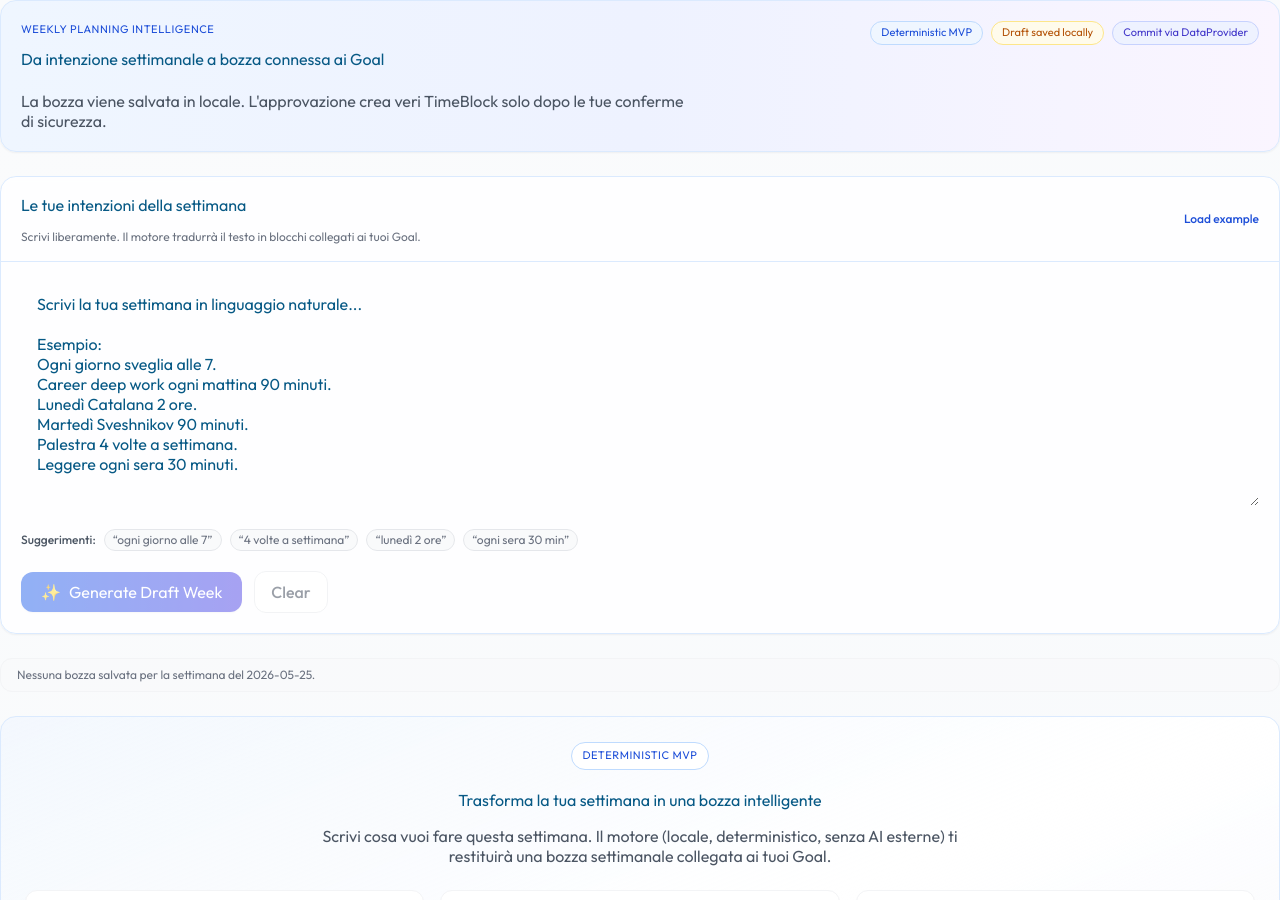
Test: WeeklyPlanningView — persistence › saves the draft to localStorage on Generate
Click the button "Load example": (1221, 219) [1184,211,1259,227]
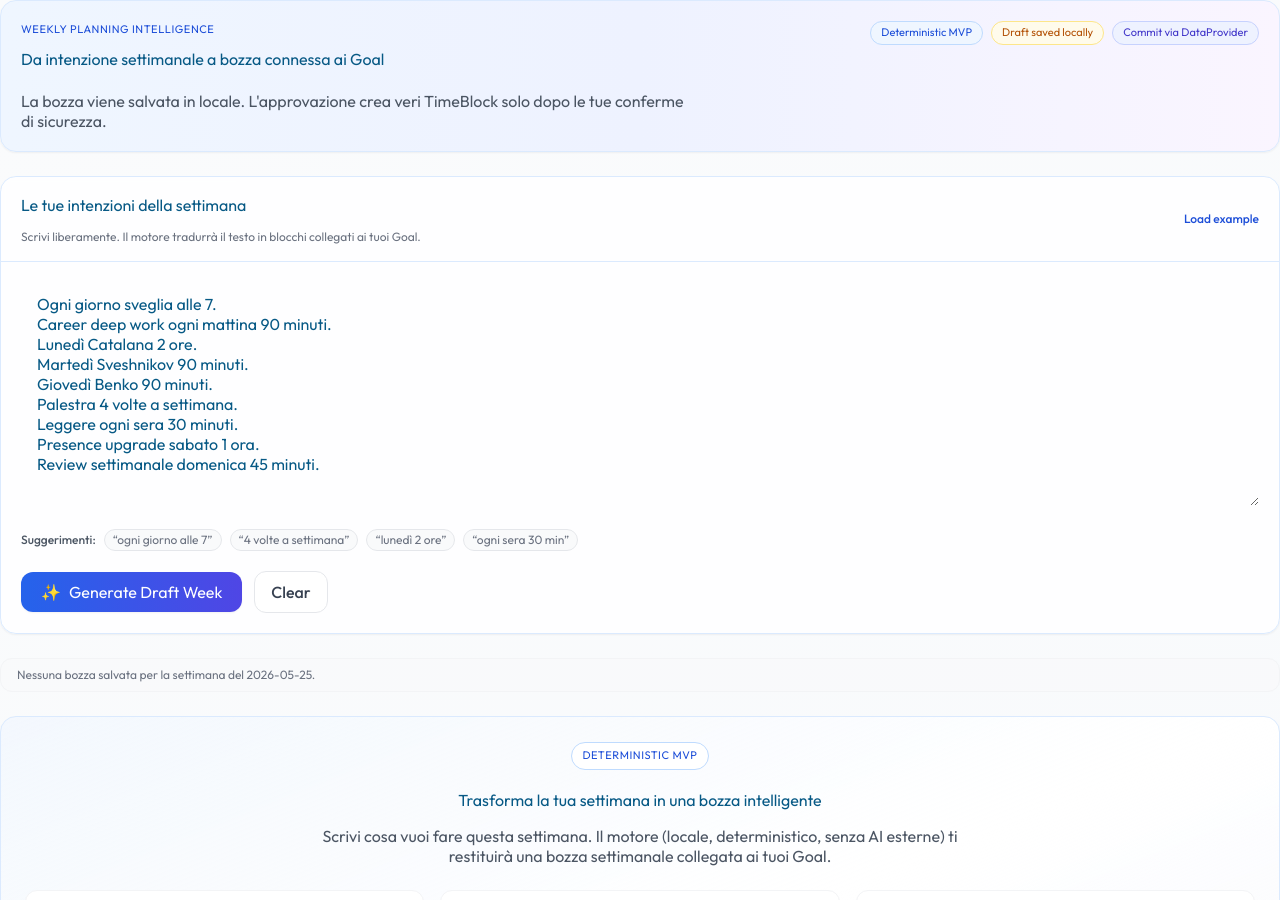
Click the button with test id "weekly-intent-generate": (132, 592) [21,572,242,612]
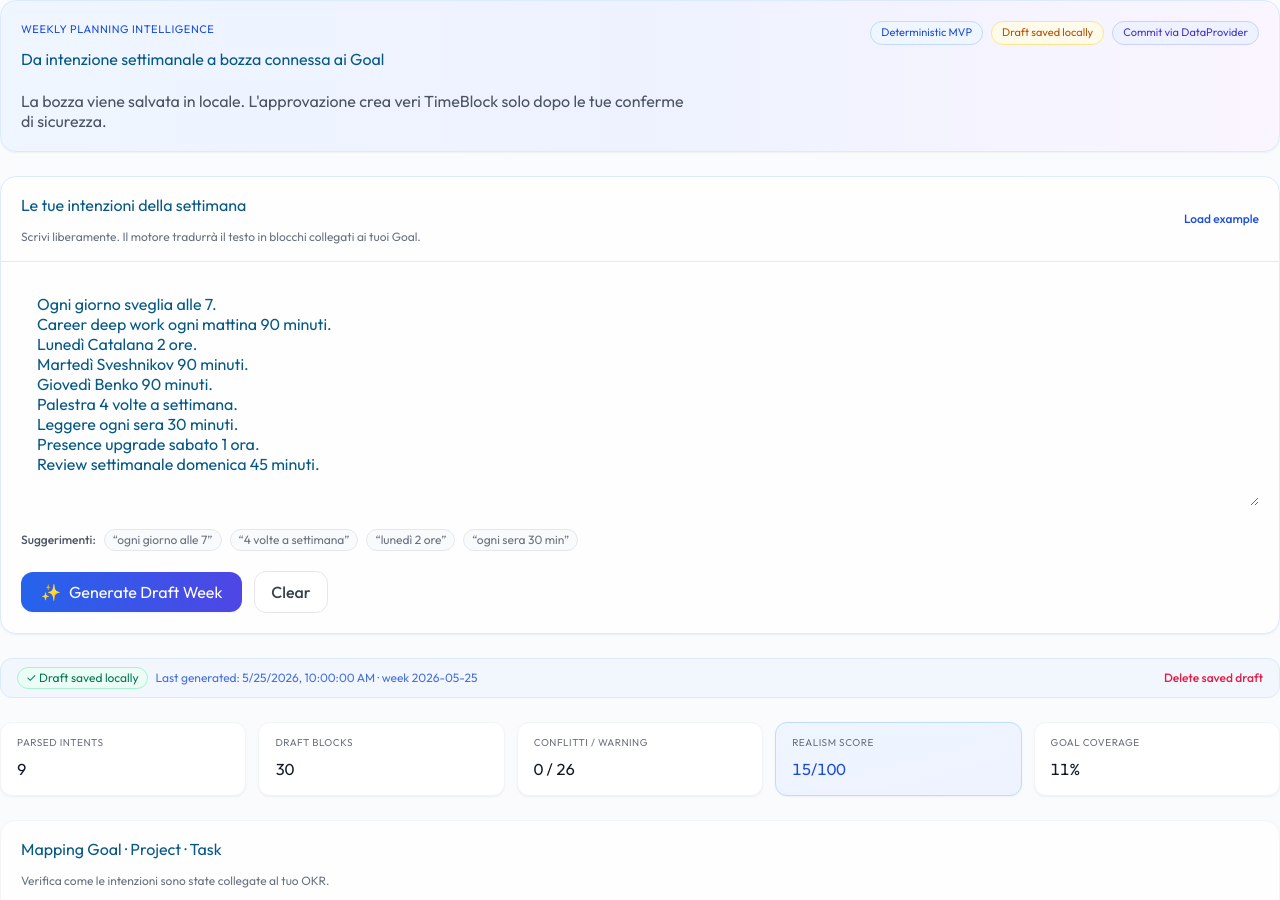
Check: the text "✓ Draft saved locally" is shown, box [17,667,148,689]
